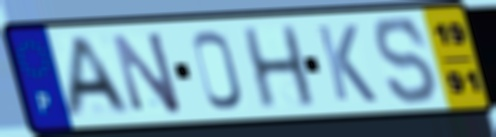0: (191, 28, 245, 112)
A: (61, 34, 136, 120)
H: (238, 22, 320, 111)
K: (313, 23, 381, 105)
N: (108, 29, 187, 117)
S: (372, 14, 442, 107)
